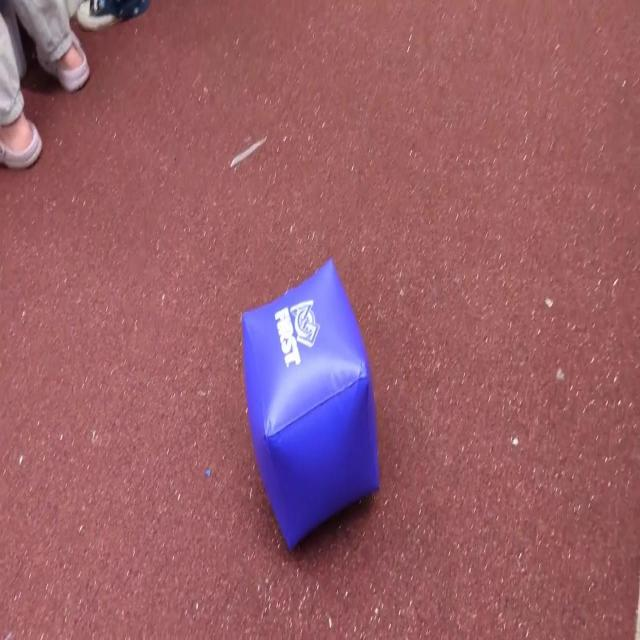frc_cube: (243, 262, 379, 558)
